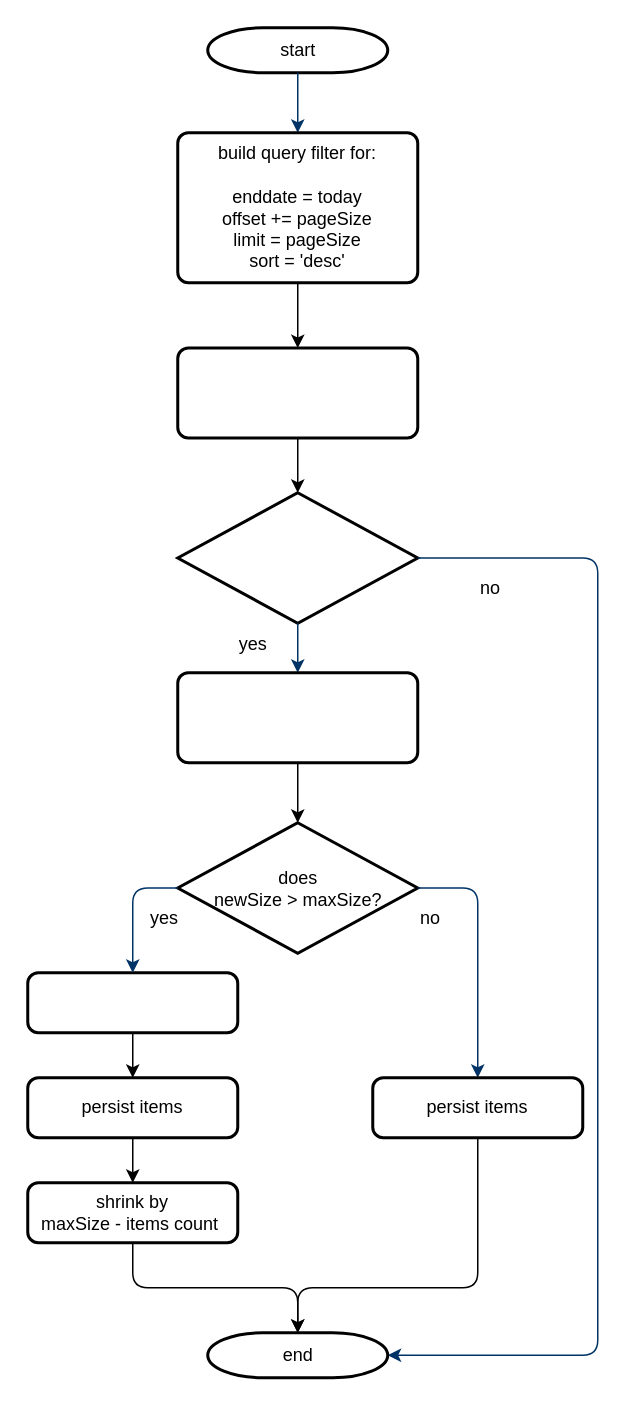
This 636x1404 diagram has some shape labels left out. The centre of each missing label's shape, as x and y in pixels:
"add loaded to items" belongs at (132,1002).
"calculate newSize = items count + loaded count" belongs at (297,717).
"load launches from api by query filter" belongs at (297,392).
"was something loaded?" belongs at (297,557).
